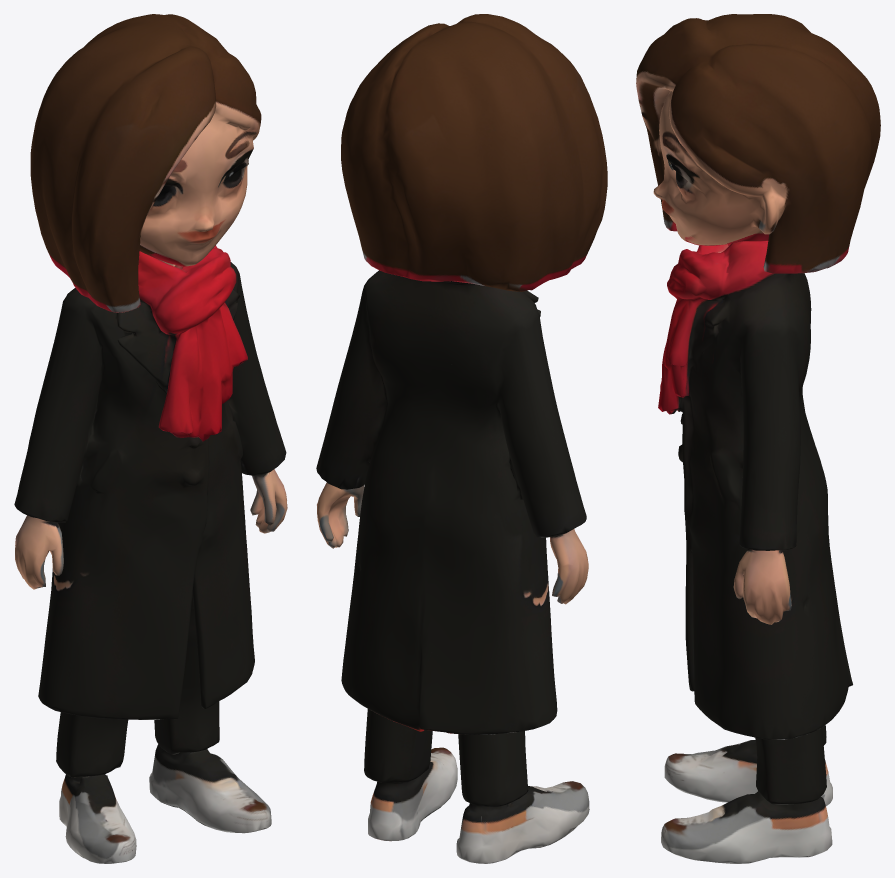
3 renders of one model, left to right at view 1: azimuth 30°, elevation 25°; view 2: azimuth 150°, elevation 25°; view 3: azimuth 270°, elevation 25°, orthographic.
Visible parts, largest first — view 1: tripo_node_062bfb50-ce2a-4522-936f-742eade35f3e; view 2: tripo_node_062bfb50-ce2a-4522-936f-742eade35f3e; view 3: tripo_node_062bfb50-ce2a-4522-936f-742eade35f3e.
Boxes of the visible parts, x1,y1,x2,y2 form: tripo_node_062bfb50-ce2a-4522-936f-742eade35f3e: (14,14,287,863); tripo_node_062bfb50-ce2a-4522-936f-742eade35f3e: (316,14,607,863); tripo_node_062bfb50-ce2a-4522-936f-742eade35f3e: (636,14,880,863).
Bounding box in the file's own units: 0.3466 × 1 × 0.2759.
1 material, 1 textured.
